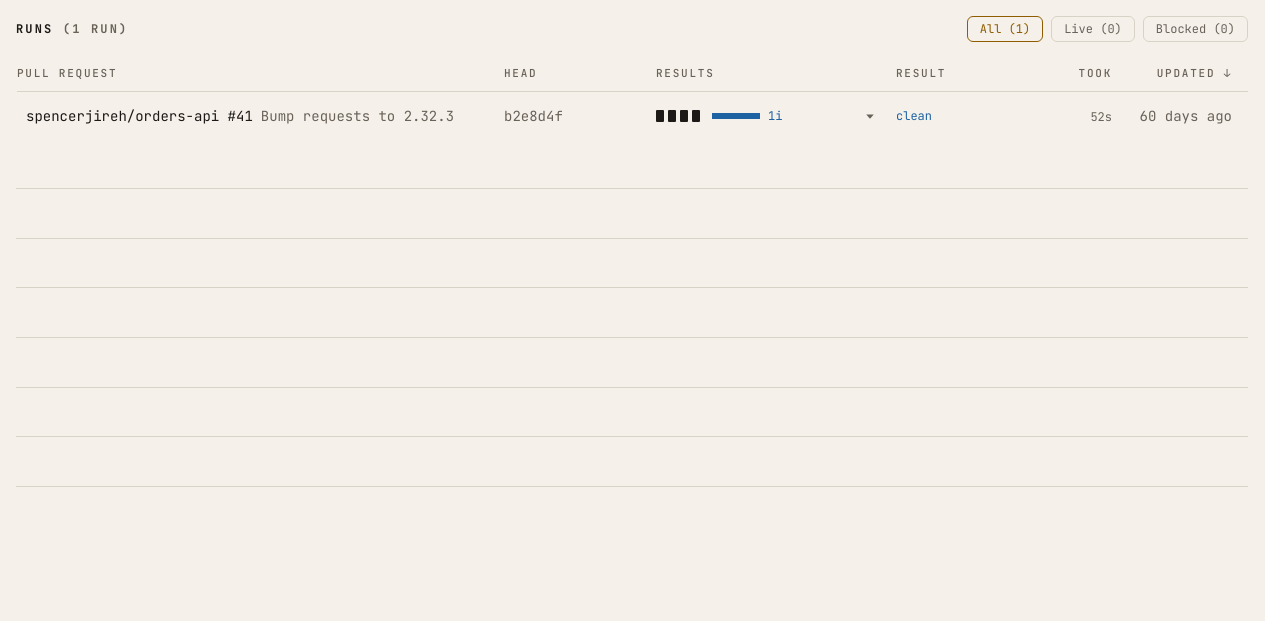
it: the row › puts the checks and the findings in one results cell that opens
Expected: the button "Results" is shown, [656, 66, 714, 82]
Expected: the button named "tests: done" is shown, [656, 110, 664, 122]
Click the button named "Show the checks".
click(870, 116)  # box [860, 106, 880, 126]
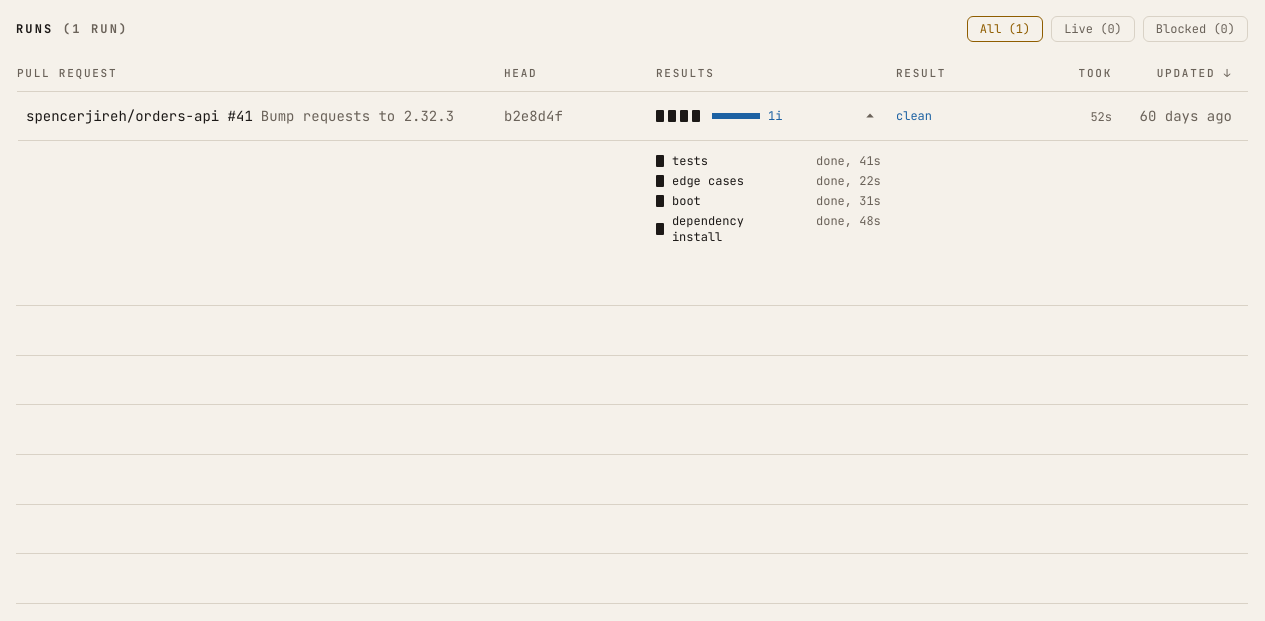
Expected: the number of rows is 3, [17, 66, 1248, 92]; [17, 92, 1248, 140]; [17, 140, 1248, 257]
Result: the button named "Hide the checks" is shown at [860, 106, 880, 126]
